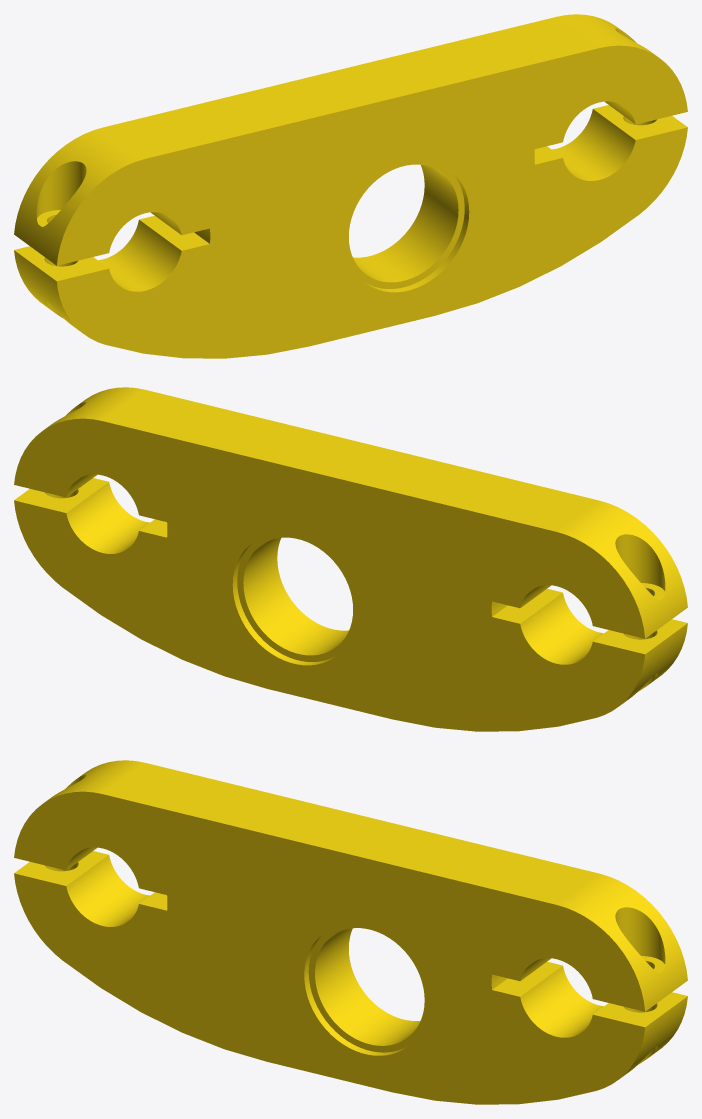
The model's file is A26_H108_shaftCollar.gltf.
3 views of the same model, one above another, from view 1: azimuth 30°, elevation 25°; view 2: azimuth 150°, elevation 25°; view 3: azimuth 330°, elevation 25° (orthographic).
Visible parts, largest first — view 1: mesh400, mesh385, mesh404, mesh409, mesh384, mesh395, mesh411, mesh406, mesh378, mesh392, mesh386, mesh394 (+2 smaller); view 2: mesh401, mesh385, mesh404, mesh409, mesh384, mesh395, mesh408, mesh406, mesh378, mesh392, mesh386, mesh394 (+2 smaller); view 3: mesh400, mesh385, mesh378, mesh409, mesh395, mesh384, mesh411, mesh375, mesh404, mesh388, mesh394, mesh386 (+2 smaller).
Boxes of the visible parts, x1,y1,x2,y2 form: mesh400: [57, 45, 687, 358]; mesh385: [103, 17, 598, 158]; mesh404: [14, 127, 144, 265]; mesh409: [353, 165, 458, 282]; mesh384: [552, 109, 635, 180]; mesh395: [98, 220, 181, 291]; mesh411: [347, 161, 464, 288]; mesh406: [36, 161, 86, 217]; mesh378: [557, 14, 657, 56]; mesh392: [14, 250, 81, 332]; mesh386: [593, 105, 687, 139]; mesh394: [14, 246, 108, 281]; mesh401: [14, 418, 644, 731]; mesh385: [103, 390, 598, 531]; mesh404: [557, 500, 687, 638]; mesh409: [243, 538, 348, 655]; mesh384: [66, 482, 149, 553]; mesh395: [520, 593, 603, 664]; mesh408: [237, 534, 354, 661]; mesh406: [615, 534, 665, 590]; mesh378: [44, 387, 144, 429]; mesh392: [620, 623, 687, 705]; mesh386: [14, 478, 108, 512]; mesh394: [593, 619, 687, 654]; mesh400: [14, 791, 644, 1104]; mesh385: [103, 763, 598, 904]; mesh378: [557, 873, 687, 1011]; mesh409: [315, 928, 420, 1045]; mesh395: [66, 855, 149, 926]; mesh384: [520, 966, 603, 1037]; mesh411: [308, 924, 426, 1052]; mesh375: [615, 907, 665, 963]; mesh404: [44, 760, 144, 802]; mesh388: [620, 996, 687, 1078]; mesh394: [14, 851, 108, 885]; mesh386: [593, 992, 687, 1027].
Size of the model in its own units: 0.0811 by 0.0279 by 0.00953.
